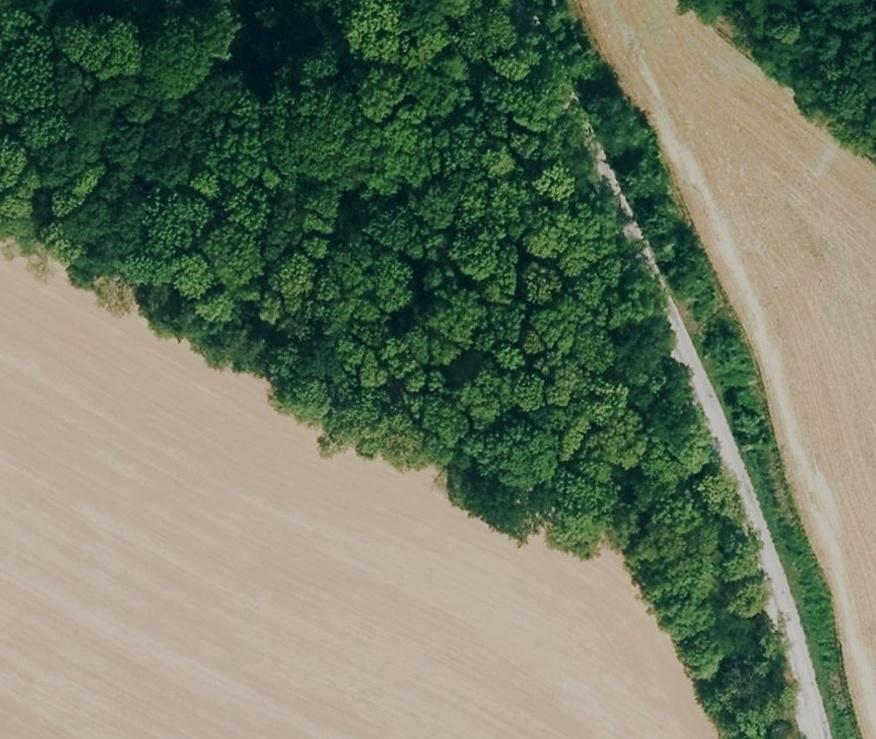field: (0, 257, 715, 737), (578, 0, 876, 737)
forest: (0, 2, 854, 737)
